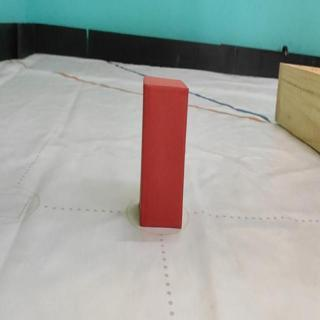redbox: (137, 76, 189, 229)
